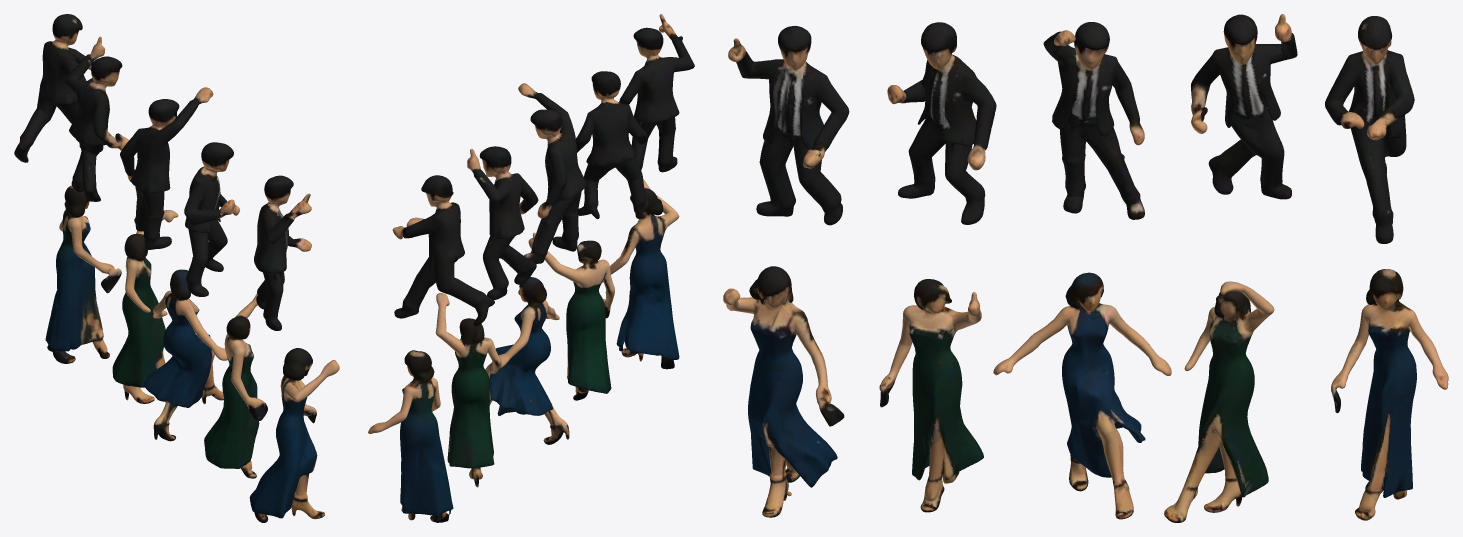
Rendered from invitados.glb.
3 views of the same model, side by side, from view 1: azimuth 30°, elevation 25°; view 2: azimuth 150°, elevation 25°; view 3: azimuth 270°, elevation 25° (orthographic). The views are drawn at different scales.
Parts seen in each view (by area): view 1: tripo_node_f9b2cf50-91b8-4826-8c5a-19667781fe24; view 2: tripo_node_f9b2cf50-91b8-4826-8c5a-19667781fe24; view 3: tripo_node_f9b2cf50-91b8-4826-8c5a-19667781fe24.
Part boxes in pixels (x1,y1,x2,y2): tripo_node_f9b2cf50-91b8-4826-8c5a-19667781fe24: (14,14,339,522); tripo_node_f9b2cf50-91b8-4826-8c5a-19667781fe24: (368,14,694,522); tripo_node_f9b2cf50-91b8-4826-8c5a-19667781fe24: (723,14,1448,522).
Size of the model in its own units: 0.2703 by 0.7388 by 0.9997.
1 material, 1 textured.
